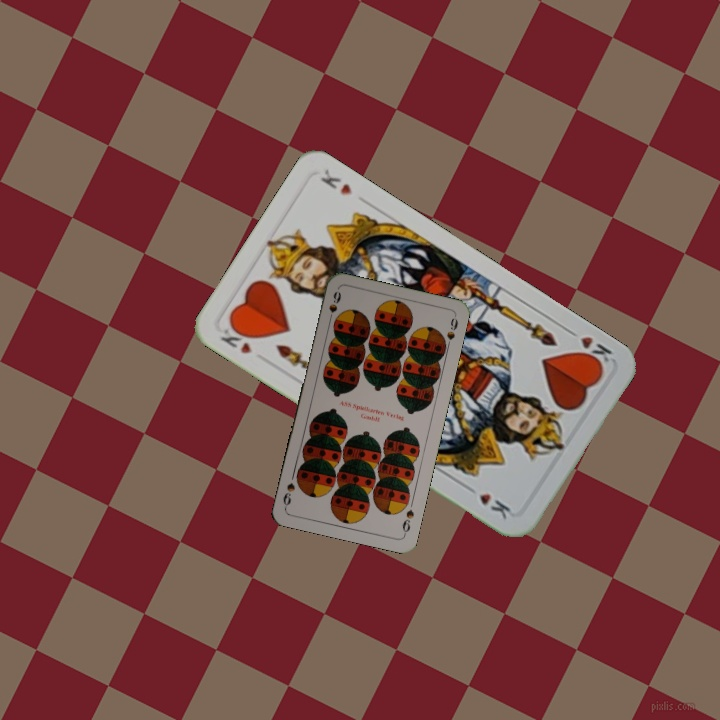HK: (562, 324, 615, 371), (216, 320, 256, 357)
S9: (325, 287, 344, 327), (398, 505, 417, 538)
